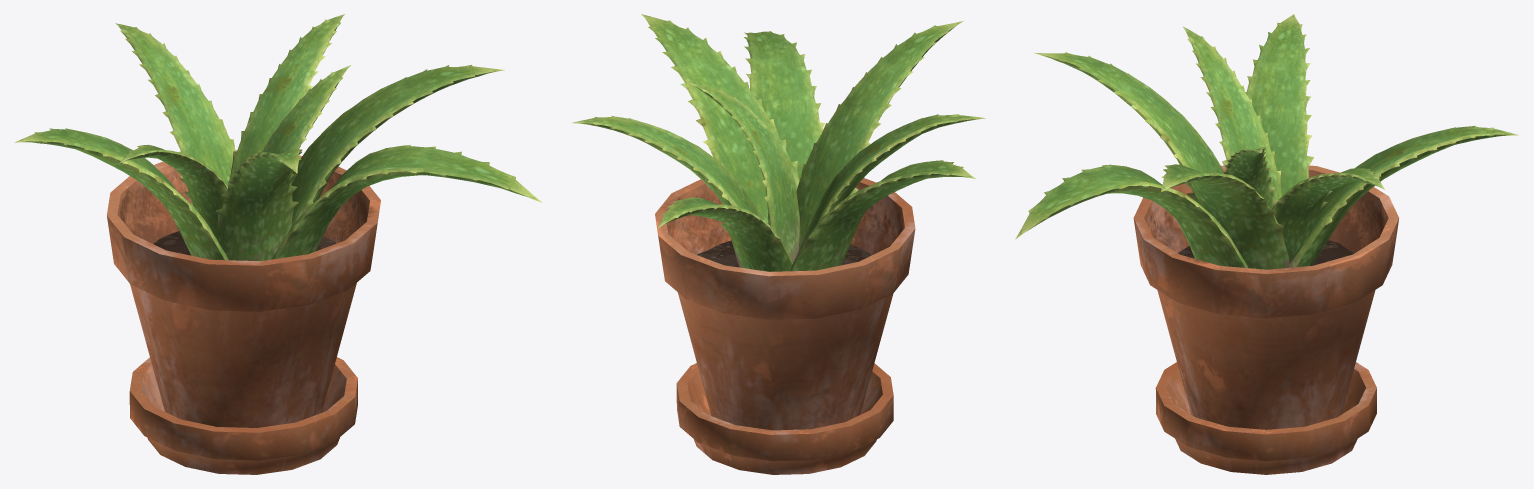
Rendered from aloe_plant.glb.
3 views of the same model, side by side, from view 1: azimuth 30°, elevation 25°; view 2: azimuth 150°, elevation 25°; view 3: azimuth 270°, elevation 25° (orthographic). The views are drawn at different scales.
Parts seen in each view (by area): view 1: Object_26, Aloe_Vera_A_12; view 2: Object_26, Aloe_Vera_A_12; view 3: Object_26, Aloe_Vera_A_12.
Boxes of the visible parts, x1=… form: Object_26: x1=106, y1=150, x2=380, y2=474; Aloe_Vera_A_12: x1=14, y1=14, x2=542, y2=260; Object_26: x1=655, y1=178, x2=915, y2=474; Aloe_Vera_A_12: x1=572, y1=14, x2=985, y2=271; Object_26: x1=1133, y1=165, x2=1399, y2=474; Aloe_Vera_A_12: x1=1015, y1=14, x2=1518, y2=269.
Size of the model in its own units: 0.4881 by 0.405 by 0.5263.
2 materials, 2 textured.
